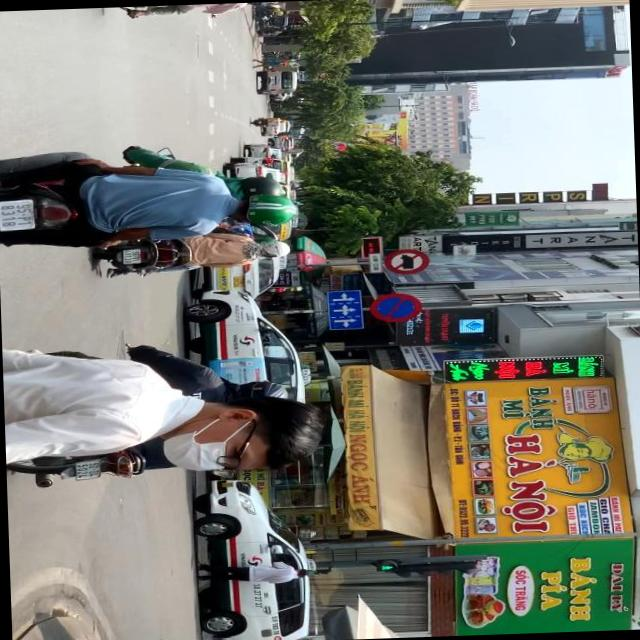P-131a: (371, 294, 421, 321)
